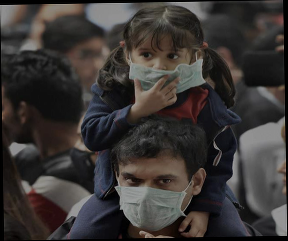with_mask: (119, 170, 189, 231), (132, 45, 194, 95)
